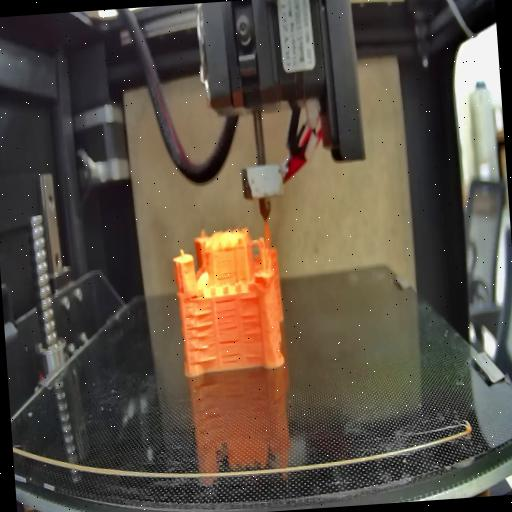cracks: (186, 312, 216, 364), (240, 312, 264, 364), (215, 298, 240, 333), (218, 337, 244, 368), (218, 266, 235, 282), (238, 294, 260, 302), (188, 294, 202, 300)
